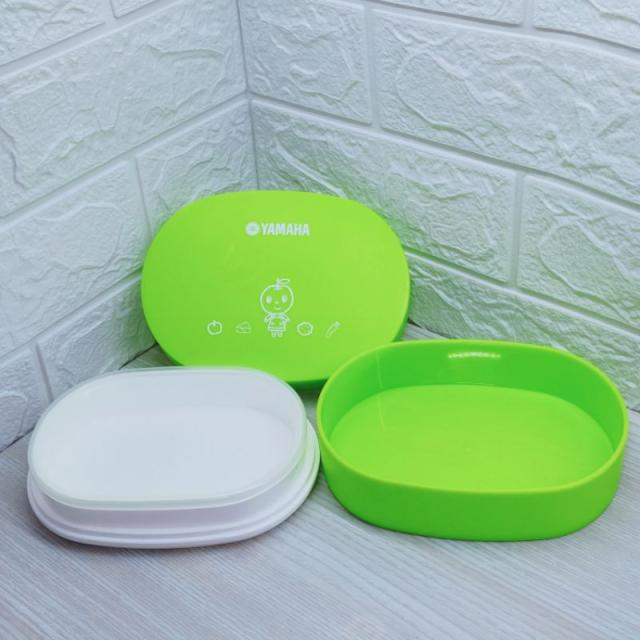plastic: (323, 338, 624, 545), (23, 369, 321, 554), (142, 192, 414, 376)
